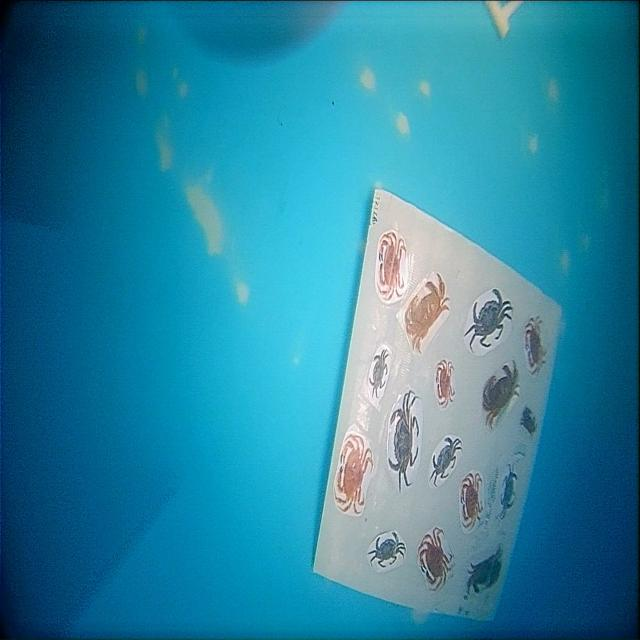GreenCrab: (388, 391, 419, 492), (464, 289, 513, 351), (430, 437, 462, 485), (368, 532, 406, 567)
